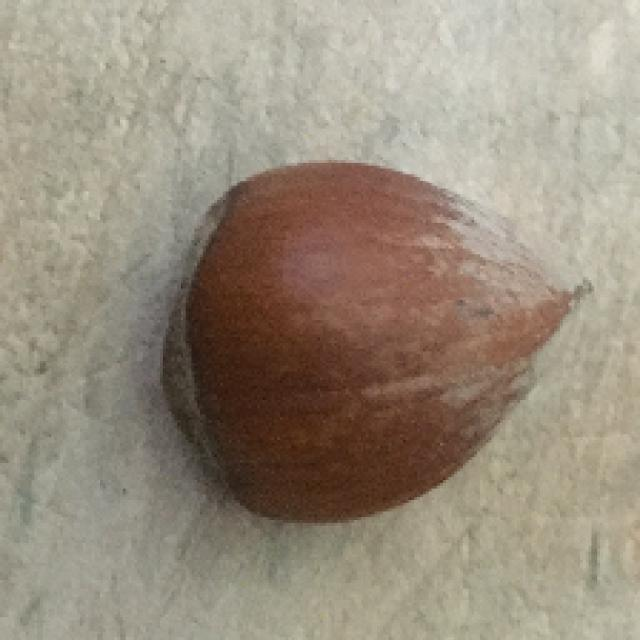qualityHazelnut: (165, 157, 584, 520)
